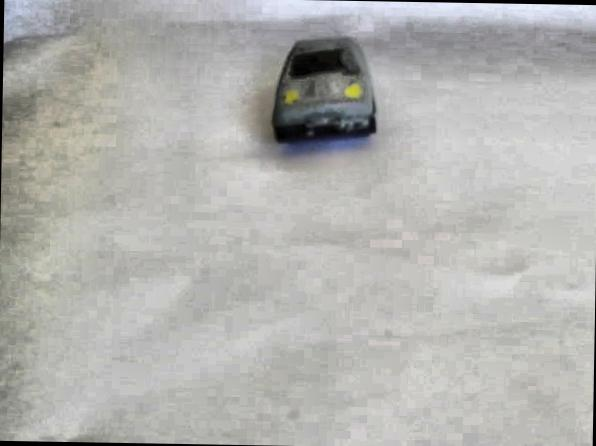normal_car: (268, 34, 380, 145)
